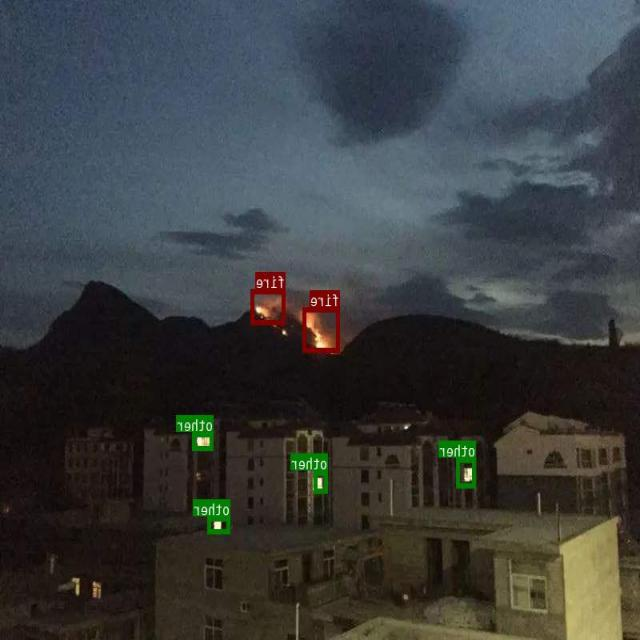fire: (304, 306, 340, 352), (252, 288, 286, 324)
other: (458, 458, 477, 488), (193, 431, 214, 449), (208, 516, 231, 532), (315, 470, 328, 492)
